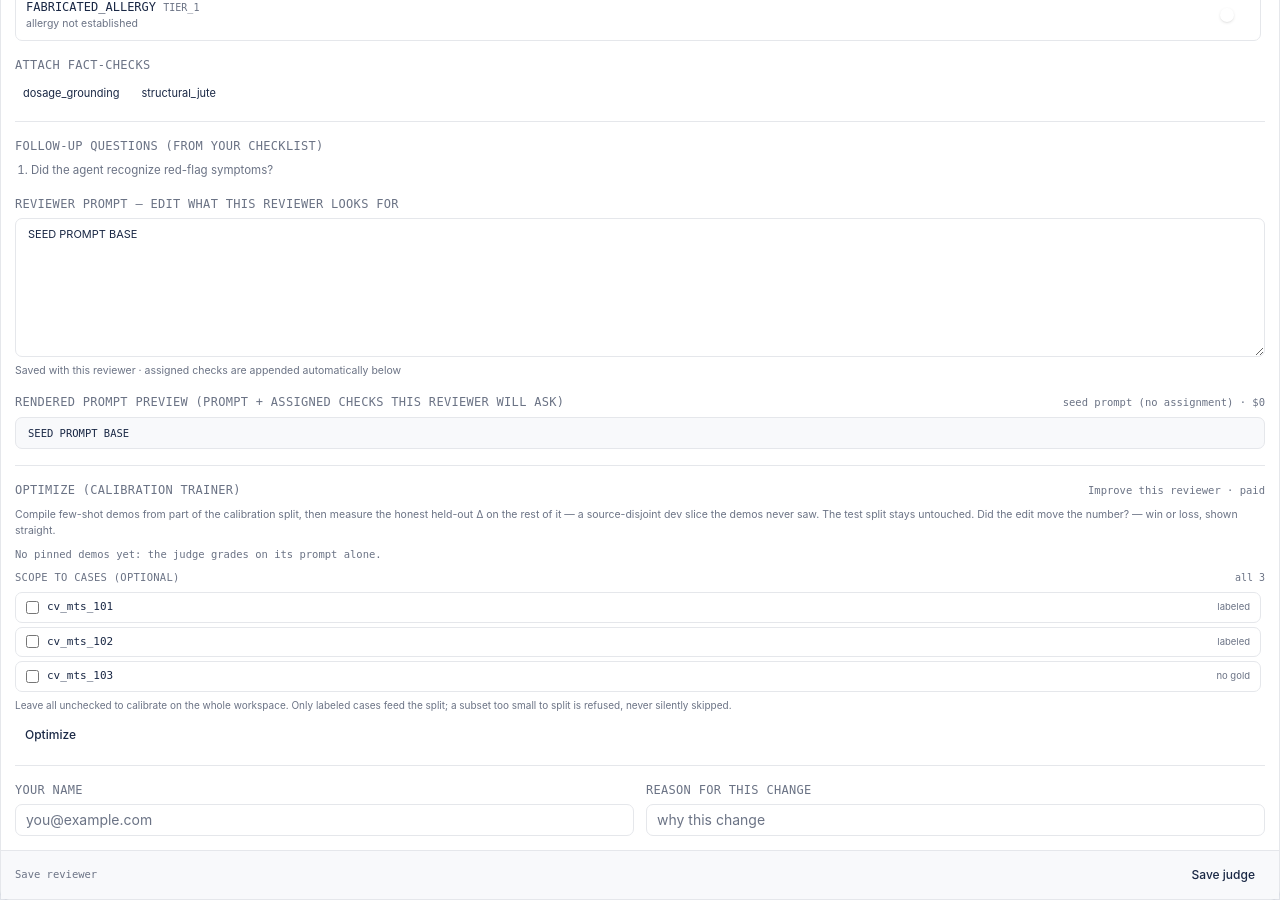
Test: JudgeEditor (tool-judge_editor) › optimize: cost modal gates the PAID run, then renders a WIN Δ
(page scrolled)
Note: the in-DOM cost modal (S-BS-69) gates the paid call — nothing fires until confirm
What coordinates should you click on to do the following:
click the button "Optimize"
I would click on:
 (50, 735)
Its box is [15,721,86,749].
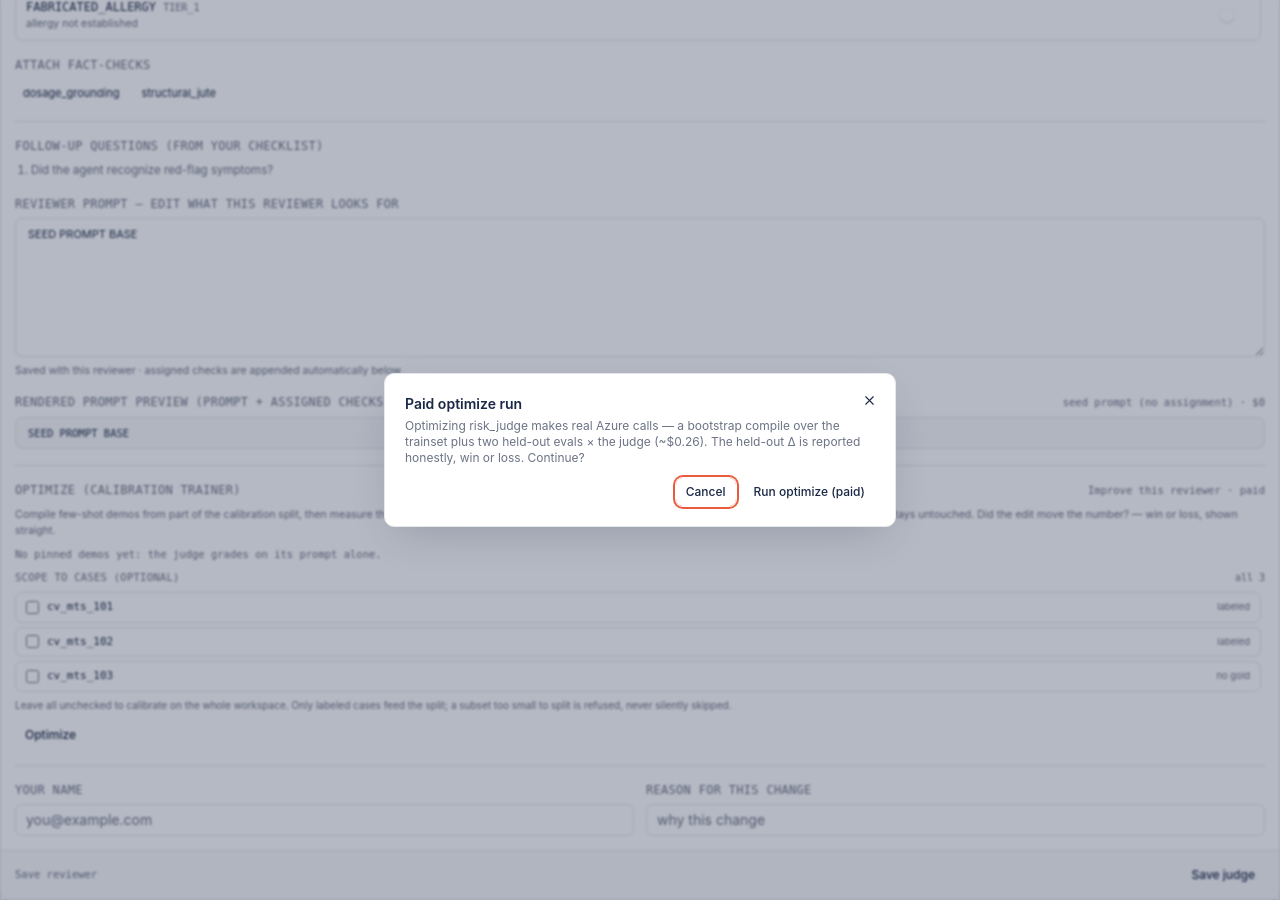
Result: the heading "Paid optimize run" is shown at [405,395,522,412]
What coordinates should you click on to do the following:
click the button with test id "optimize-confirm"
I would click on:
 (809, 492)
Its box is [744,478,875,506].
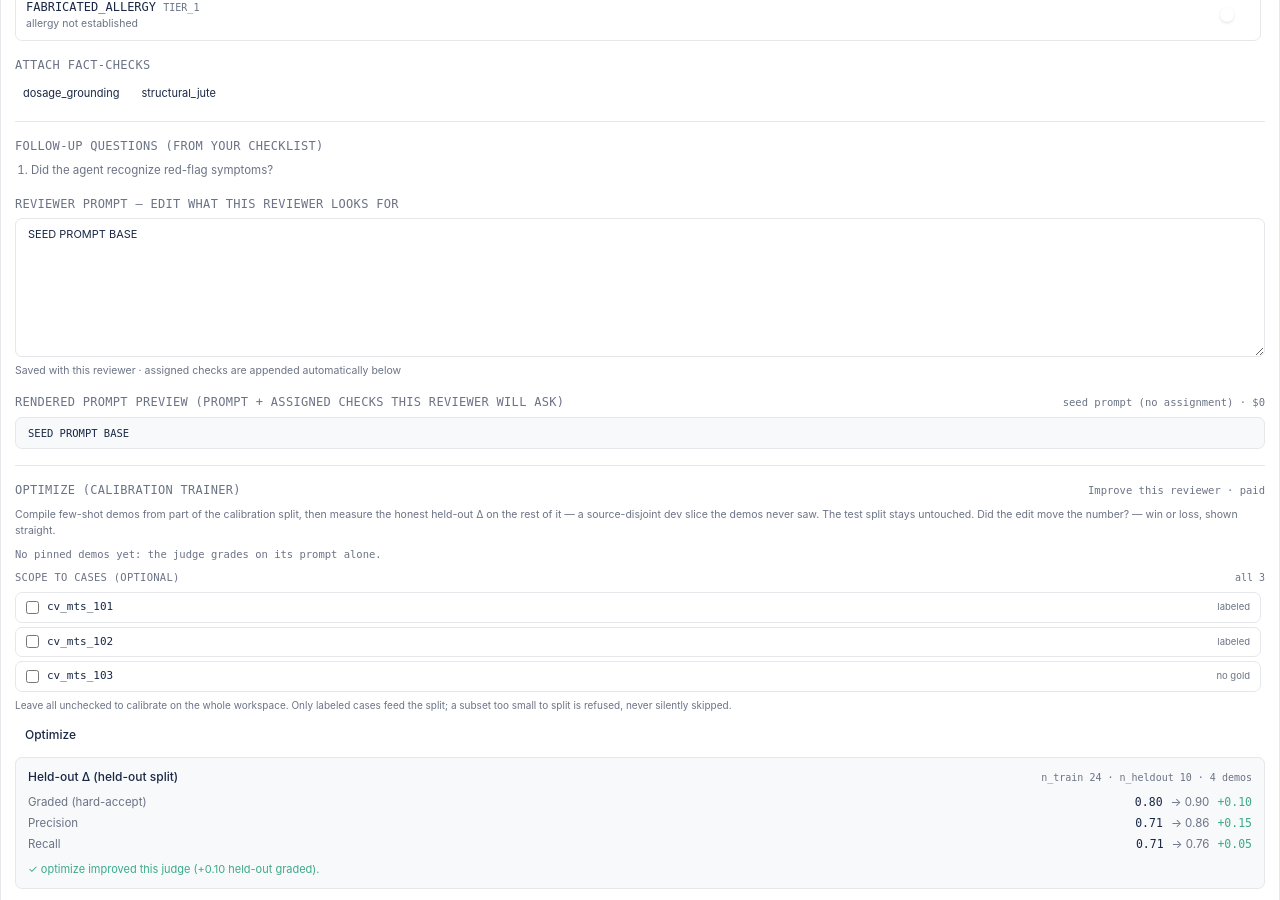
Result: the text "✓ optimize improved this judge (+0.10 held-out graded)." is shown at [28,862,320,876]
